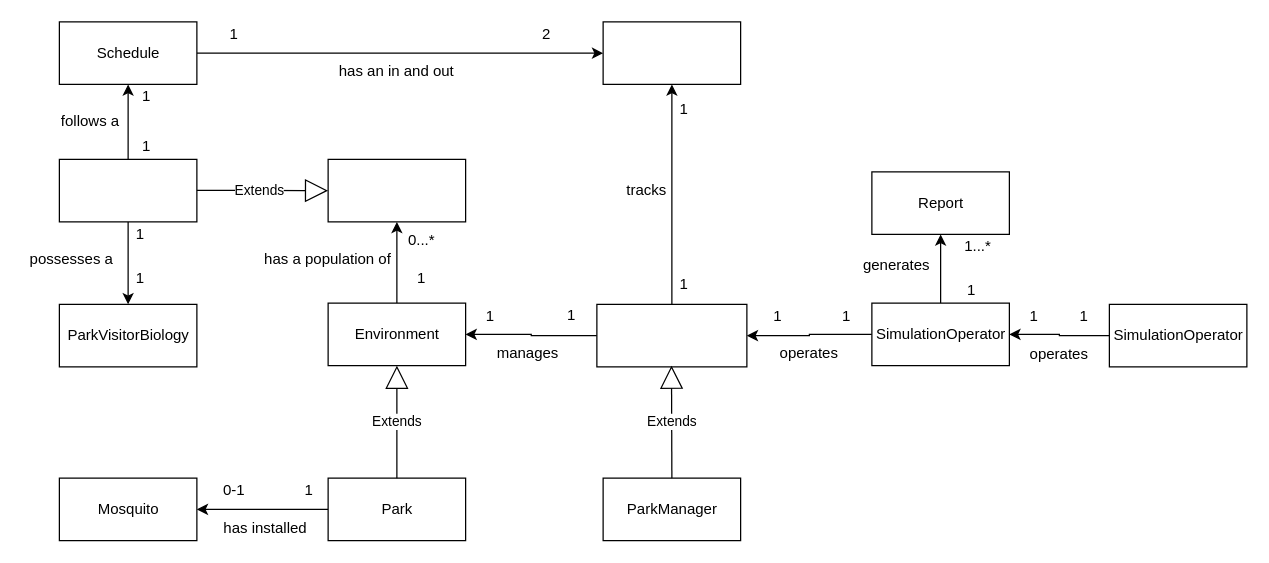
This 1269x563 diagram has some shape labels left out. The shapes that lost their labels are listed below. From the top down, each one's box as (x1, y1, x2, y2) in pixels, then its label:
(602, 21, 741, 84): Time
(58, 158, 197, 222): ParkVisitor
(327, 158, 466, 222): Agent
(596, 303, 747, 367): EnvironmentManager
